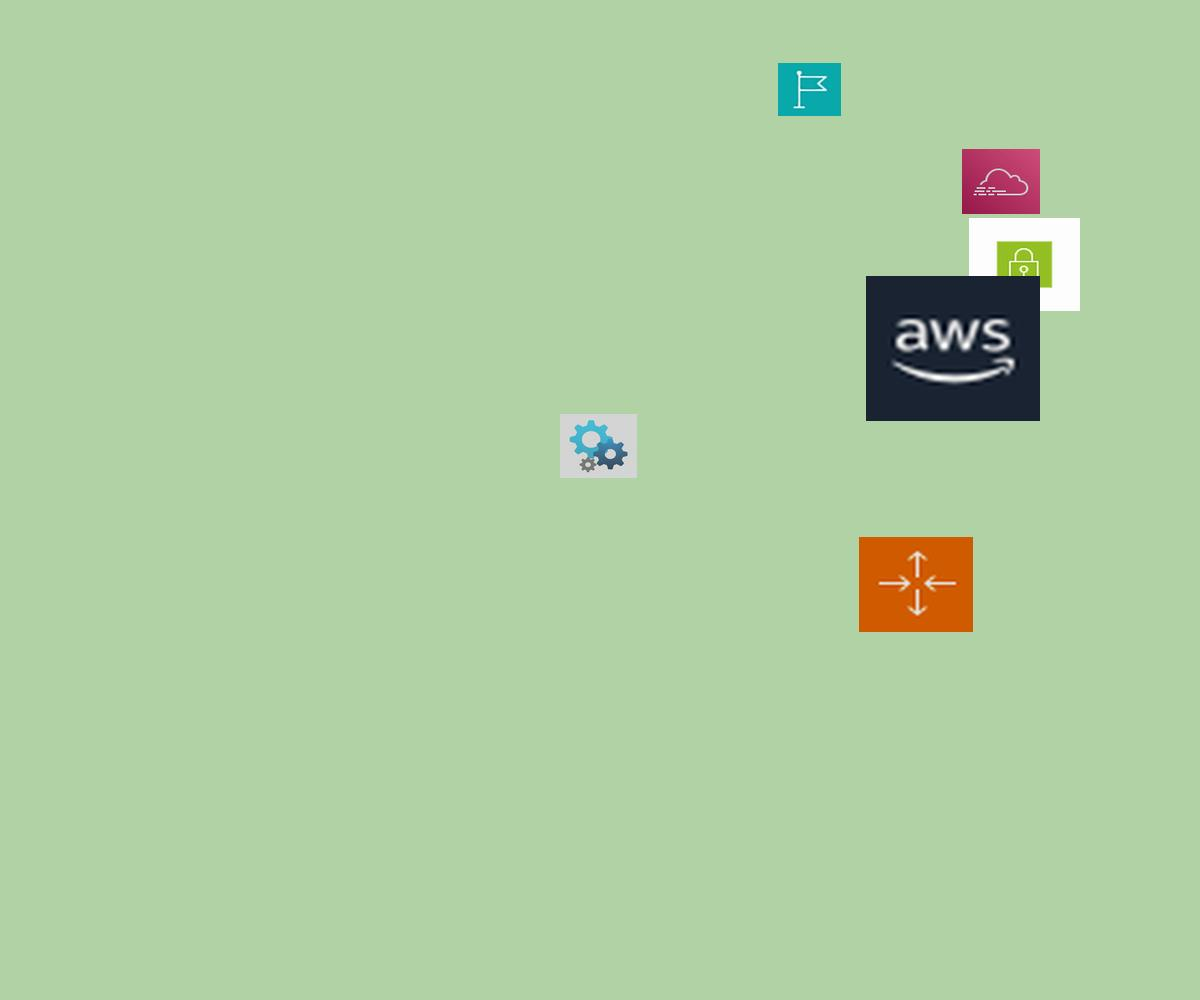AWS-Cloud-logo: (866, 276, 1040, 421)
AWS-CloudTrail: (962, 149, 1040, 214)
AWS-Public-subnet: (969, 218, 1080, 311)
AWS-Region: (778, 63, 841, 116)
AWS-Scaling-group: (859, 537, 973, 632)
Azure_api: (560, 414, 637, 478)
